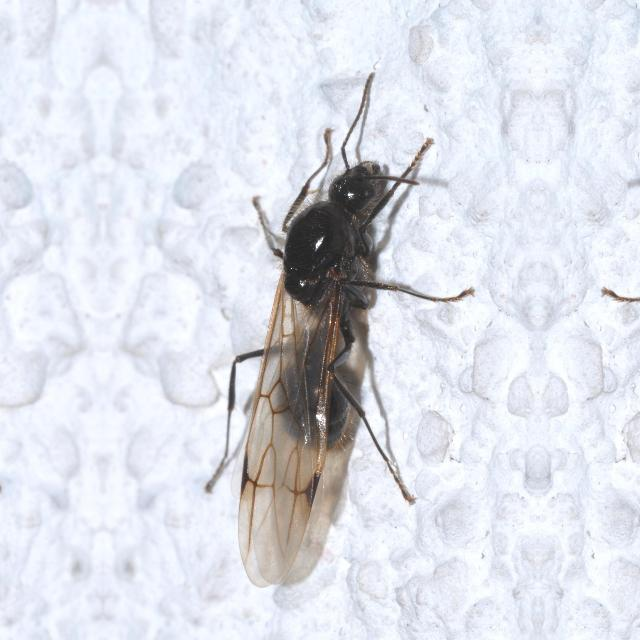Messor: (186, 79, 456, 519)
